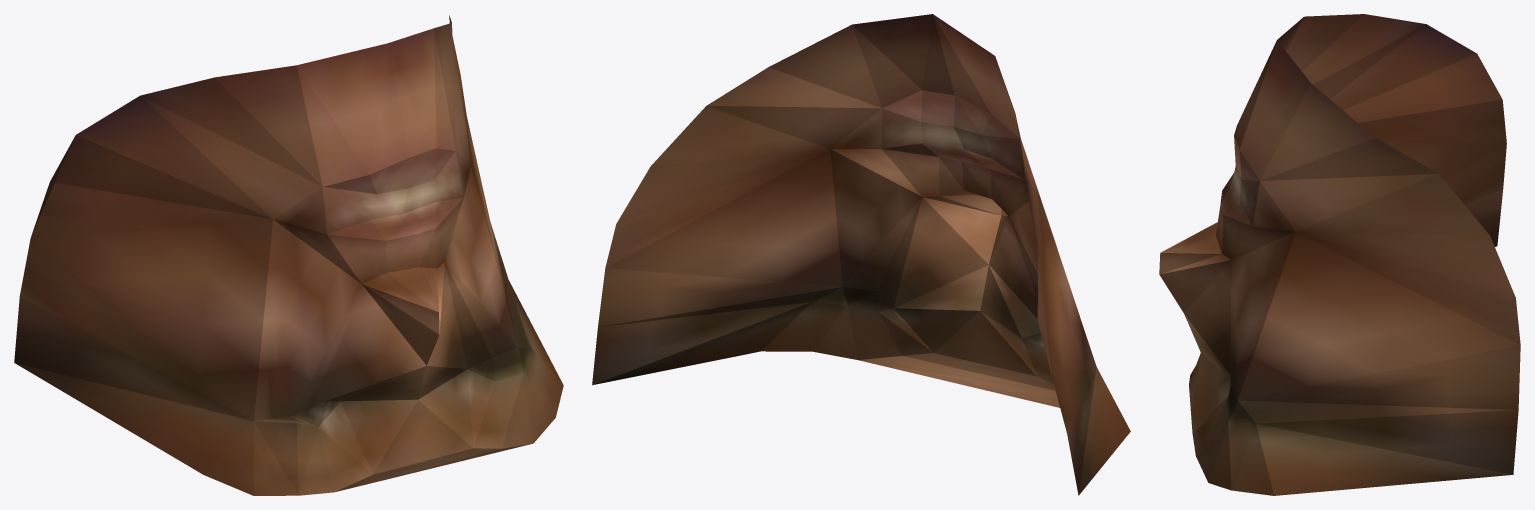
The model's file is real_13576.obj.
3 renders of one model, left to right at view 1: azimuth 30°, elevation 25°; view 2: azimuth 150°, elevation 25°; view 3: azimuth 270°, elevation 25°, orthographic. The views are drawn at different scales.
Bounding box in the file's own units: 113 × 90 × 75.5.
